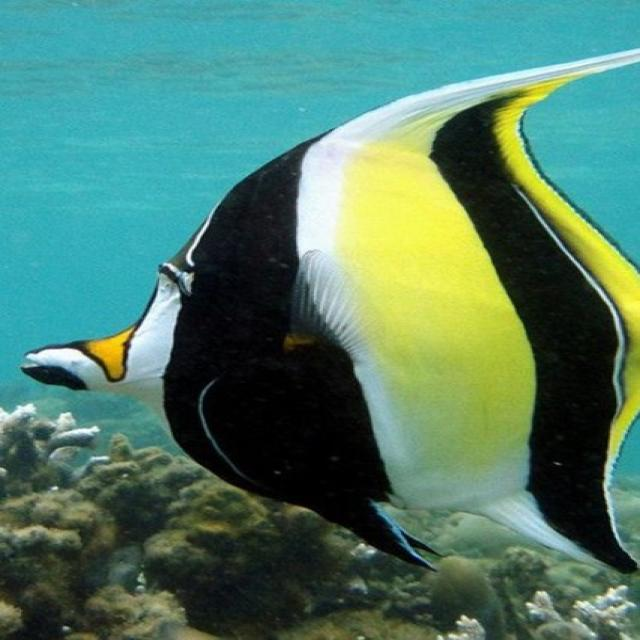MorishIdol: (16, 41, 638, 577)
